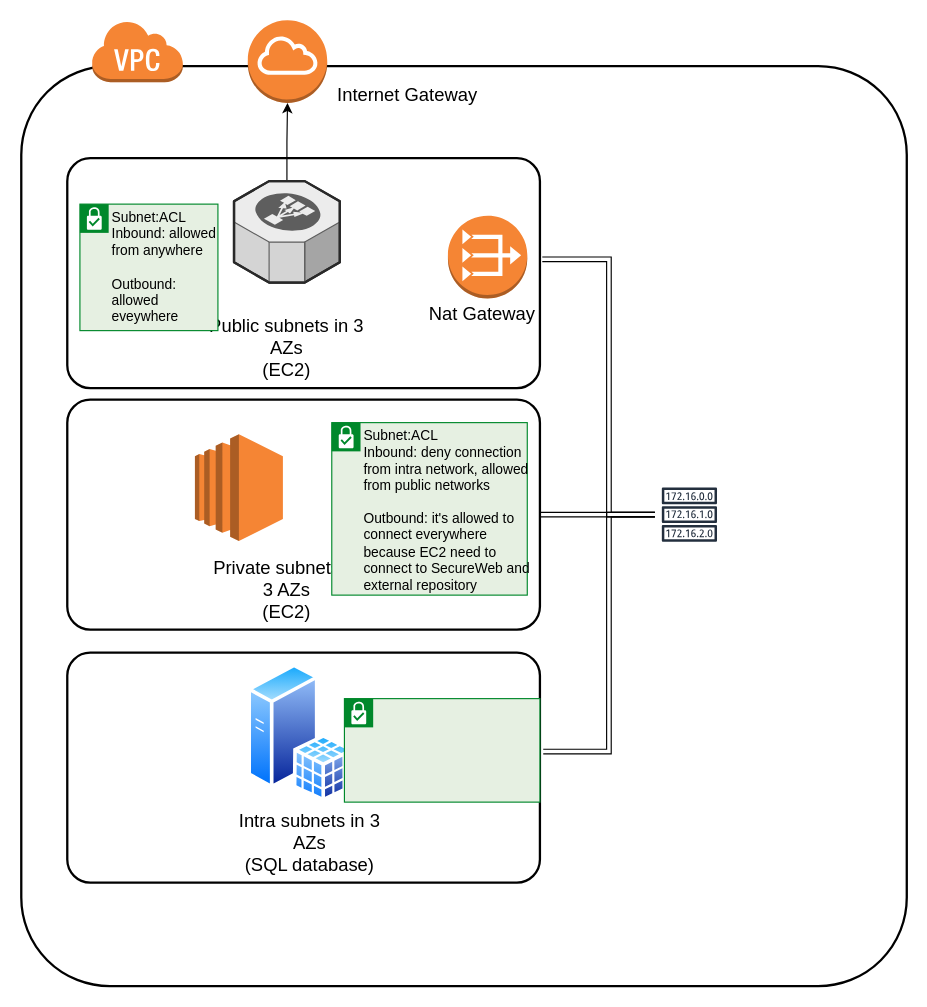
Image size: 927x1007. Some labels were removed from this diagram. The shapes that lost their labels are listed below. From the top down, each one's centre as x and y in pixels, then its label:
At point (689, 514): "Route table".
At point (441, 749): "Subnet:ACL Inbound: allowed from private only Outbound: blocked".
